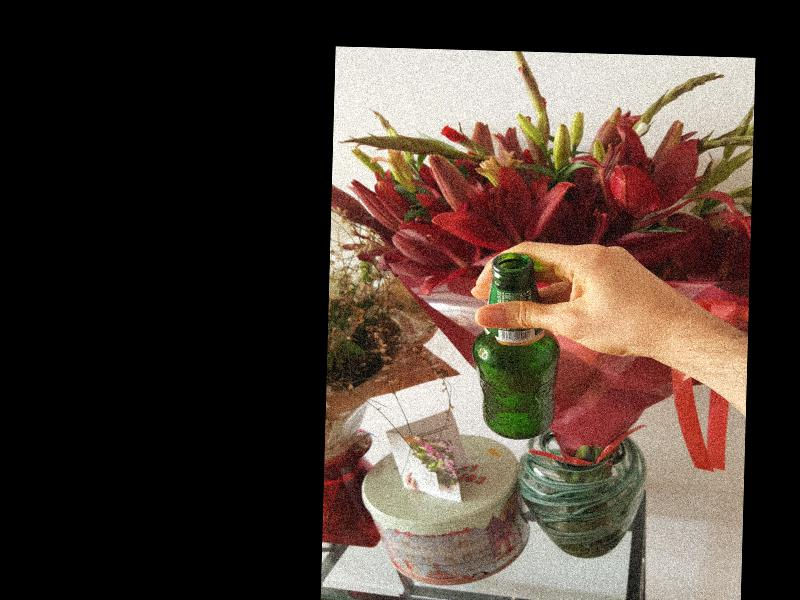Beer: (470, 253, 559, 440)
